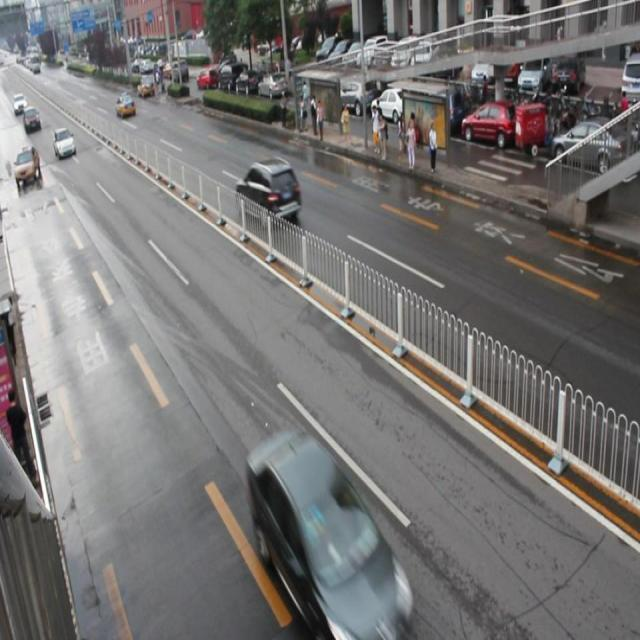car: (245, 432, 413, 640), (234, 157, 303, 226)
